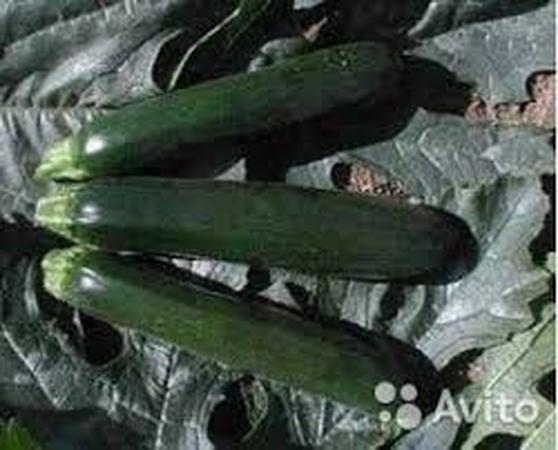zucchini: (30, 167, 481, 283)
